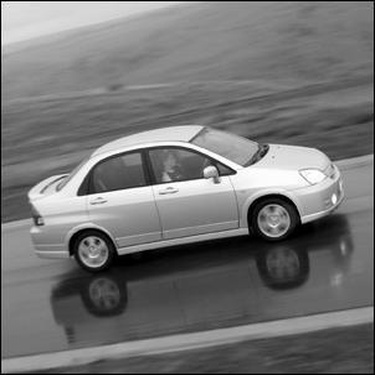car: (25, 114, 350, 262)
